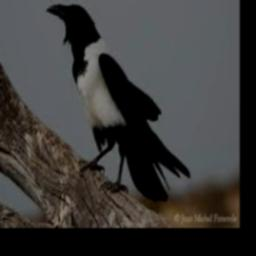Crow: (46, 3, 191, 203)
